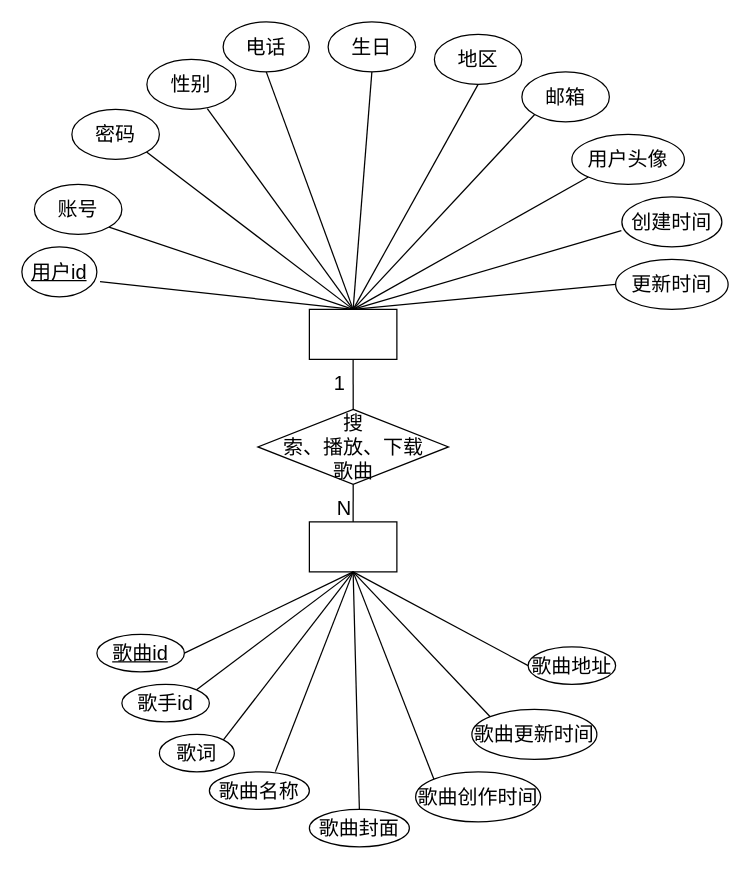
This 750x869 diagram has some shape labels left out. The box of each missing label's shape, as (x1, y1, x2, y2) in pixels:
歌曲实体song: (308, 521, 397, 572)
用户实体: (308, 308, 397, 359)
